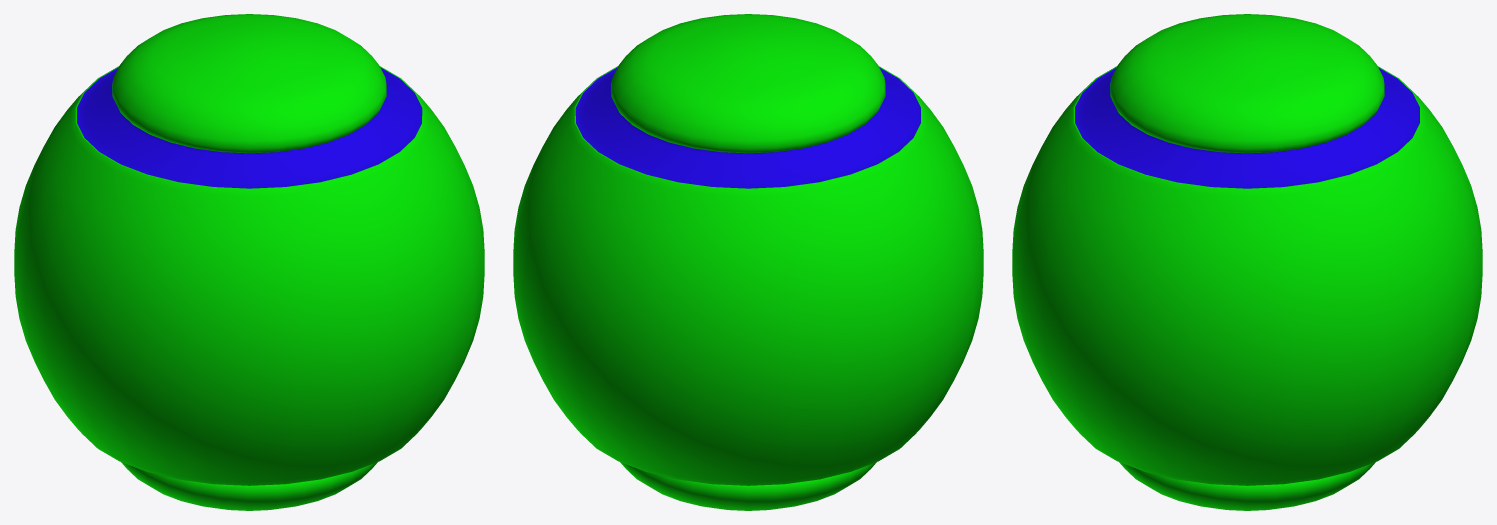
File: ball 3.fbx
3 views of the same model, side by side, from view 1: azimuth 30°, elevation 25°; view 2: azimuth 150°, elevation 25°; view 3: azimuth 270°, elevation 25° (orthographic).
Visible parts, largest first — view 1: pSphere13; view 2: pSphere13; view 3: pSphere13.
Part boxes in pixels (left/top/right/bottom): pSphere13: left=14, top=14, right=484, bottom=510; pSphere13: left=513, top=14, right=983, bottom=510; pSphere13: left=1012, top=14, right=1482, bottom=510.
Bounding box in the file's own units: 1.95 × 2 × 1.94.
